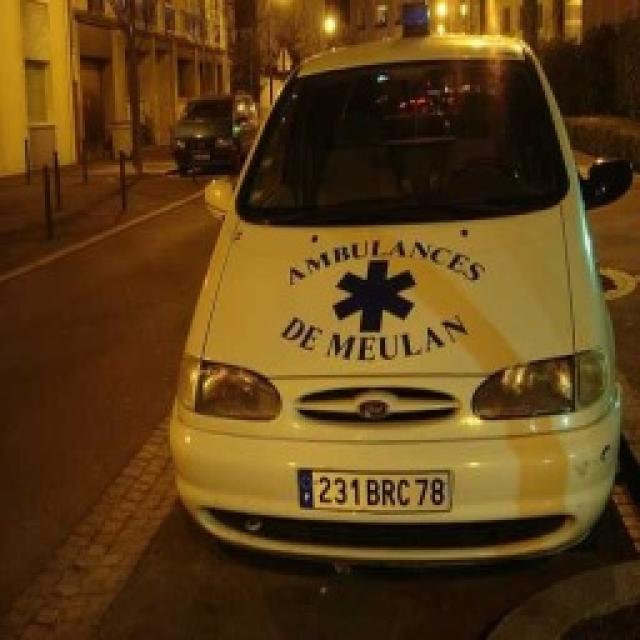ambulance: (168, 0, 622, 630)
